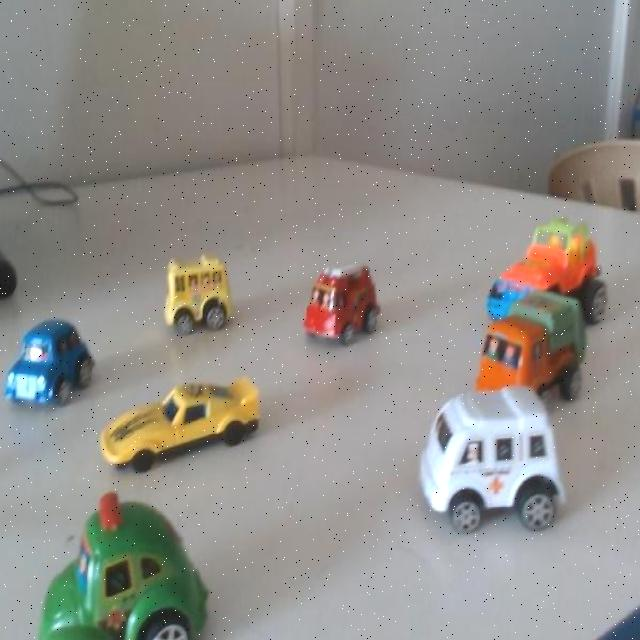car: (392, 362, 551, 558), (34, 509, 171, 640), (112, 366, 242, 484), (477, 212, 569, 330), (482, 280, 556, 412), (301, 249, 382, 366), (150, 249, 238, 352), (1, 315, 78, 415)
